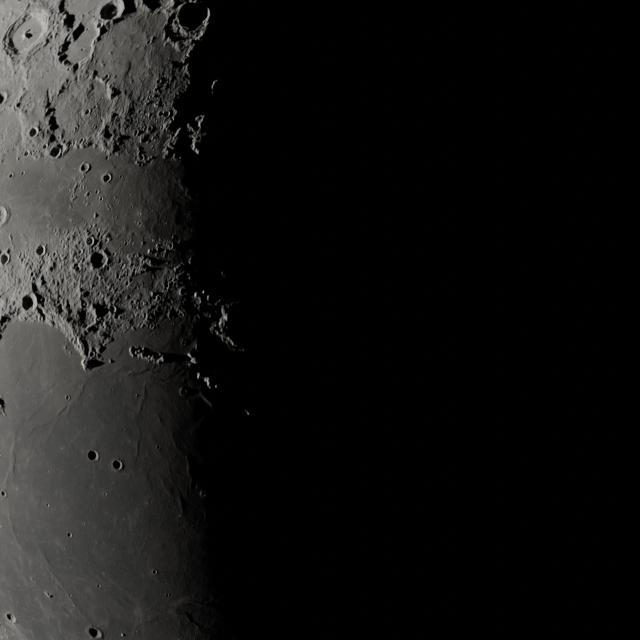crater: (95, 2, 123, 24), (85, 247, 109, 270), (19, 294, 35, 313), (85, 622, 101, 640), (44, 147, 66, 159), (108, 458, 124, 473), (82, 451, 98, 464), (100, 172, 116, 185), (5, 612, 19, 626), (76, 162, 92, 174), (32, 245, 48, 255)
